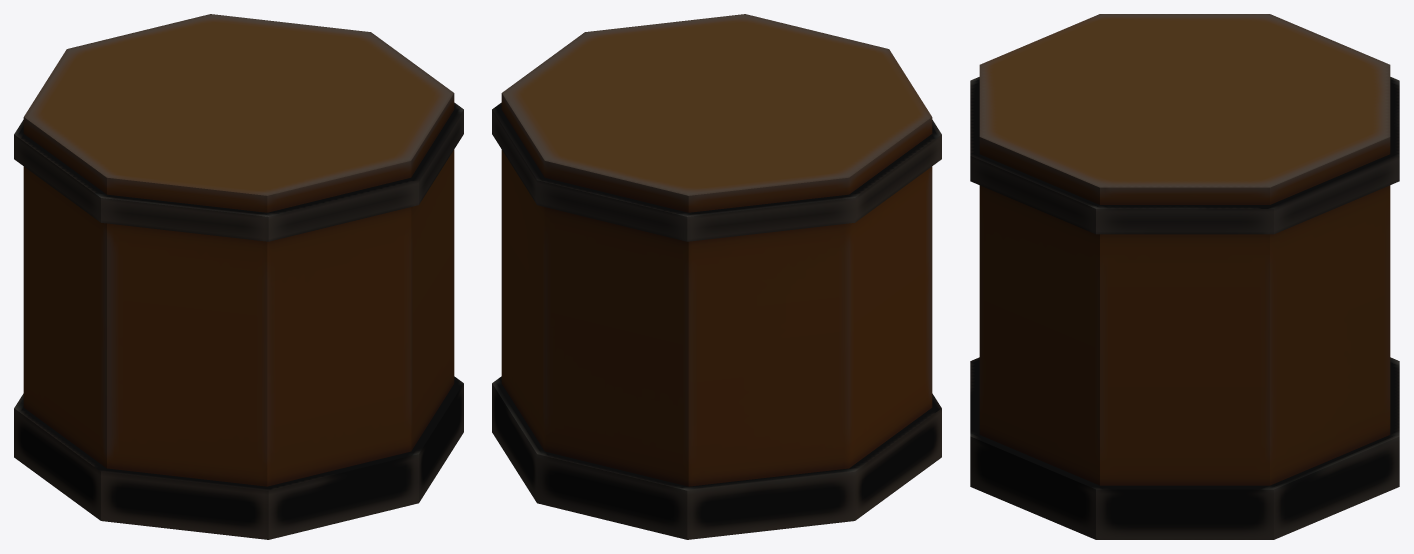
Rendered from kütük.fbx.
3 renders of one model, left to right at view 1: azimuth 30°, elevation 25°; view 2: azimuth 150°, elevation 25°; view 3: azimuth 270°, elevation 25°, orthographic. The views are drawn at different scales.
Visible parts, largest first — view 1: Circle.003; view 2: Circle.003; view 3: Circle.003.
Boxes of the visible parts, box(x1,y1,x2,y2) form: Circle.003: box(14, 14, 463, 539); Circle.003: box(492, 14, 941, 539); Circle.003: box(970, 14, 1399, 539).
Bounding box in the file's own units: 251 × 224 × 251.
